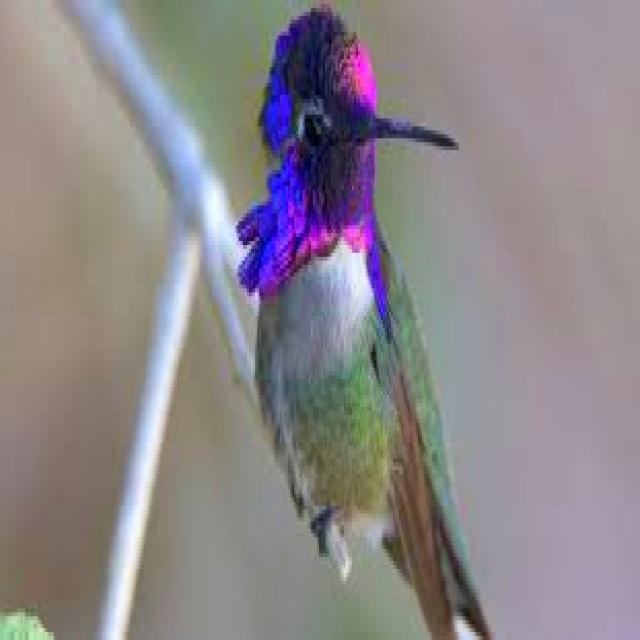hummingbird: (239, 8, 492, 636)
